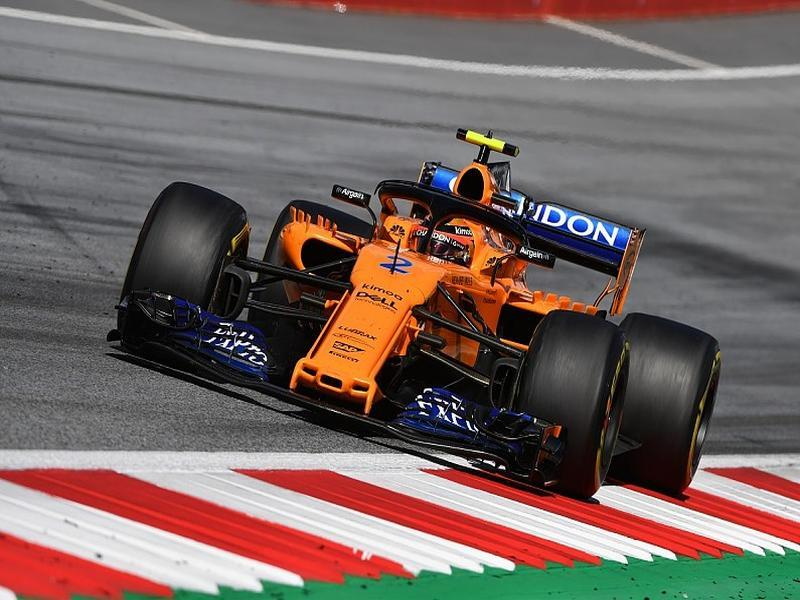racecar: (100, 93, 712, 503)
